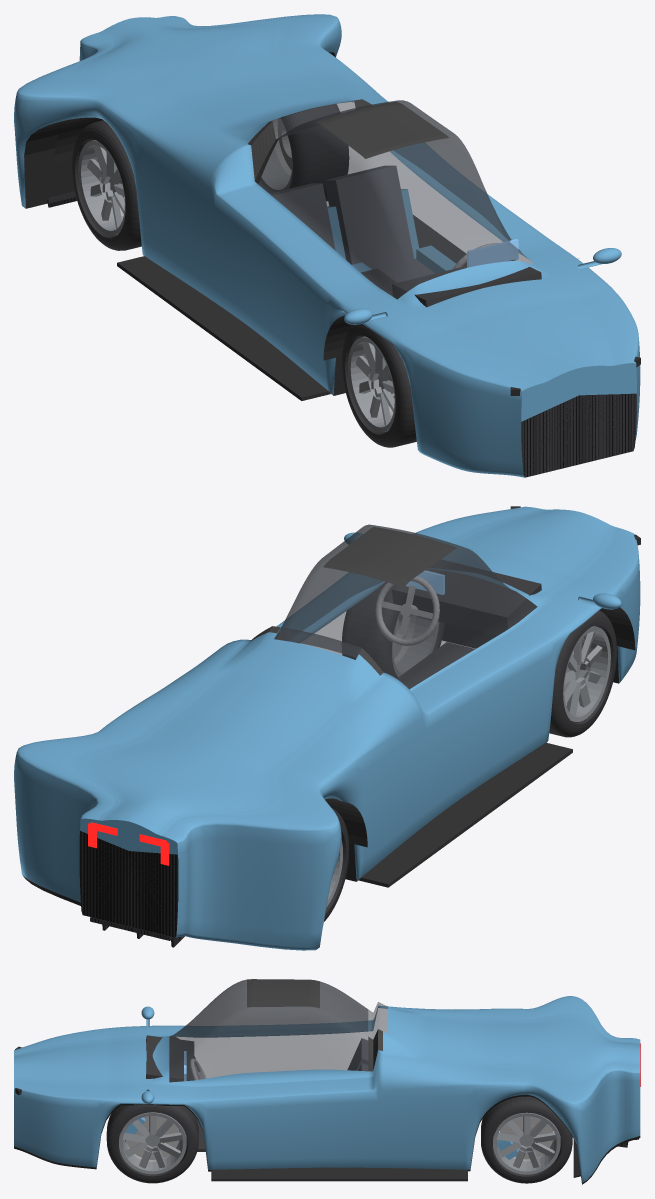
File: bmw-i8.glb
The picture shows the model from 3 angles, top to bottom: view 1: azimuth 30°, elevation 25°; view 2: azimuth 150°, elevation 25°; view 3: azimuth 270°, elevation 25°; orthographic projection. The views are drawn at different scales.
Visible parts, largest first — view 1: Body_PrimaryPaint, Glass_Windows, Interior_Seats, WheelWells, Carbon_Exterior, Body_SecondaryPaint, Tire_RL, Tire_FR, Tire_RR, Rim_FR, Underbody, Rim_RR (+5 smaller); view 2: Body_PrimaryPaint, Glass_Windows, WheelWells, Carbon_Exterior, Interior_Dashboard, Body_SecondaryPaint, Rim_FR, Tire_FL, Tire_FR, Interior_SteeringWheel, Underbody, Interior_Tub (+3 smaller); view 3: Body_PrimaryPaint, Glass_Windows, WheelWells, Tire_RL, Tire_FL, Rim_FL, Rim_RL, Body_SecondaryPaint, Interior_Dashboard, Underbody, BrakeDisc_FL, BrakeDisc_RL (+1 smaller).
Boxes of the visible parts, x1,y1,x2,y2 form: Body_PrimaryPaint: (14, 14, 640, 477); Glass_Windows: (258, 100, 533, 299); Interior_Seats: (270, 165, 434, 282); WheelWells: (53, 117, 578, 400); Carbon_Exterior: (47, 191, 636, 477); Body_SecondaryPaint: (248, 99, 449, 184); Tire_RL: (258, 104, 349, 201); Tire_FR: (341, 324, 416, 447); Tire_RR: (72, 120, 141, 250); Rim_FR: (348, 336, 395, 432); Underbody: (24, 52, 345, 395); Rim_RR: (78, 140, 125, 235); Body_PrimaryPaint: (14, 506, 640, 950); Glass_Windows: (274, 524, 537, 689); WheelWells: (325, 607, 635, 887); Carbon_Exterior: (79, 831, 184, 947); Interior_Dashboard: (392, 560, 541, 635); Body_SecondaryPaint: (250, 527, 457, 675); Rim_FR: (563, 626, 610, 721); Tire_FL: (342, 582, 444, 678); Tire_FR: (549, 610, 616, 737); Interior_SteeringWheel: (375, 576, 439, 645); Underbody: (23, 623, 618, 905); Interior_Tub: (397, 642, 474, 685); Body_PrimaryPaint: (14, 996, 640, 1183); Glass_Windows: (169, 979, 387, 1082); WheelWells: (211, 1167, 467, 1181); Tire_RL: (481, 1096, 572, 1183); Tire_FL: (106, 1104, 198, 1183); Rim_FL: (119, 1112, 186, 1174); Rim_RL: (493, 1112, 560, 1174); Body_SecondaryPaint: (247, 979, 382, 1071); Interior_Dashboard: (146, 1035, 194, 1082); Underbody: (14, 1094, 640, 1184); BrakeDisc_FL: (126, 1116, 179, 1161); BrakeDisc_RL: (499, 1116, 553, 1161).
Size of the model in its own units: 1.95 by 1.29 by 4.69.
16 materials, 2 textured.
